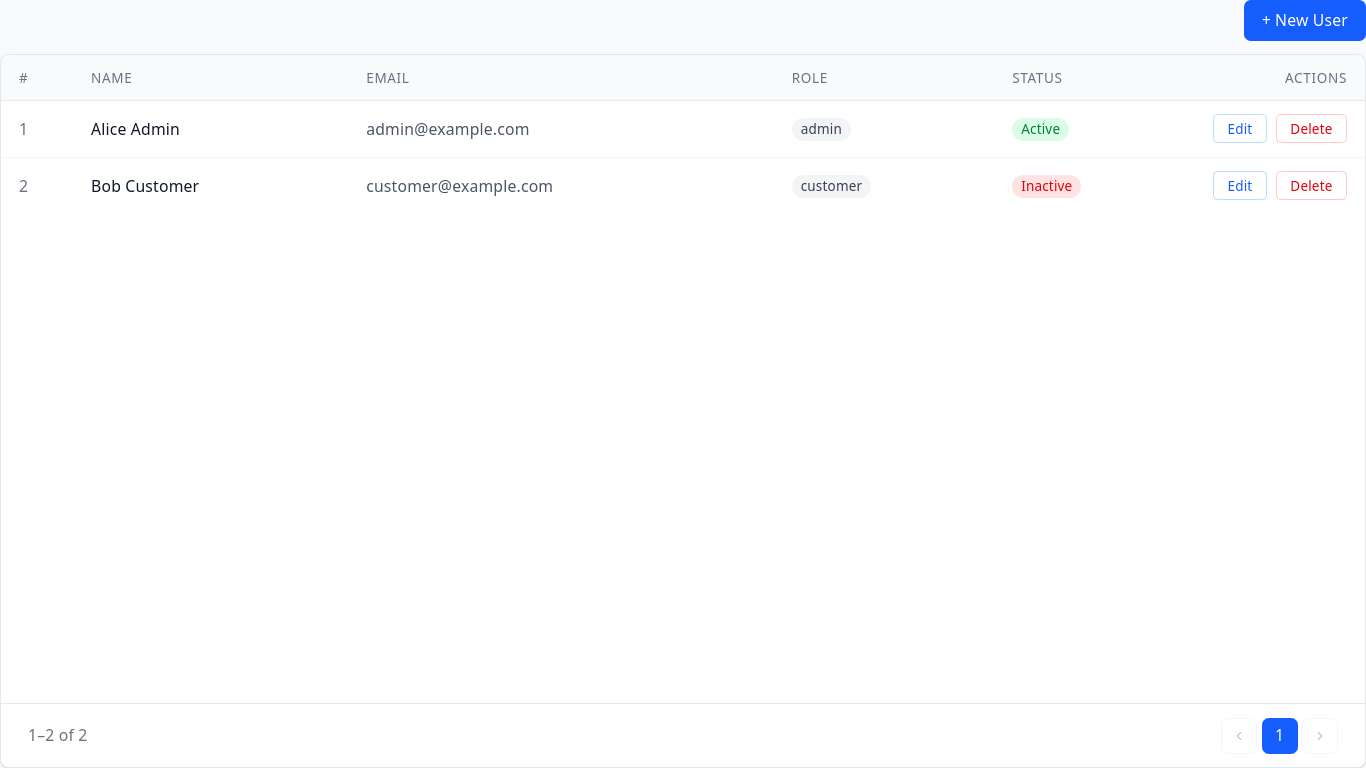
Scenario: UserList › opens "Edit User" modal with pre-filled values when Edit is clicked
Click the button "Edit" in the row of "Alice". click: (1240, 129)
box: left=1213, top=114, right=1267, bottom=144
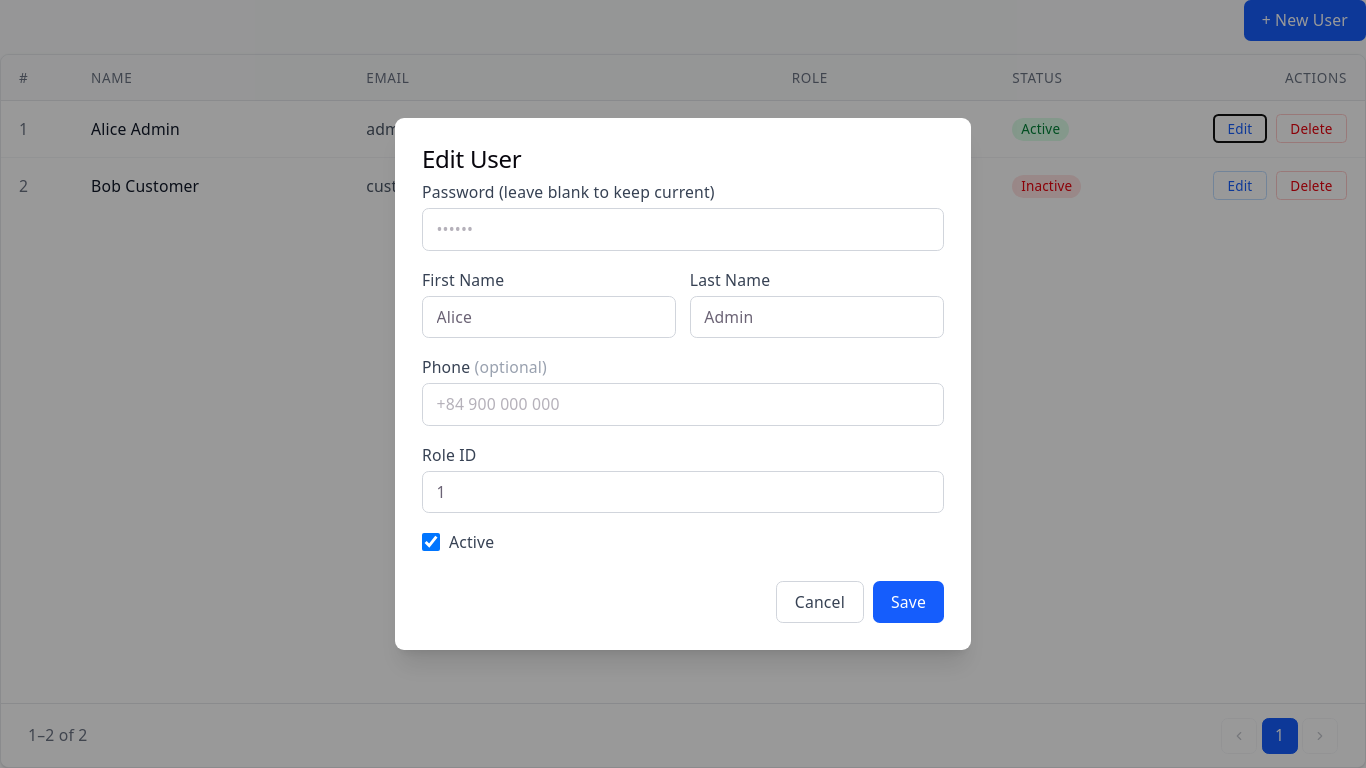
Expected: the heading "Edit User" is shown, left=422, top=142, right=522, bottom=175
Expected: the field labelled "First Name" holds "Alice", left=422, top=296, right=676, bottom=338
